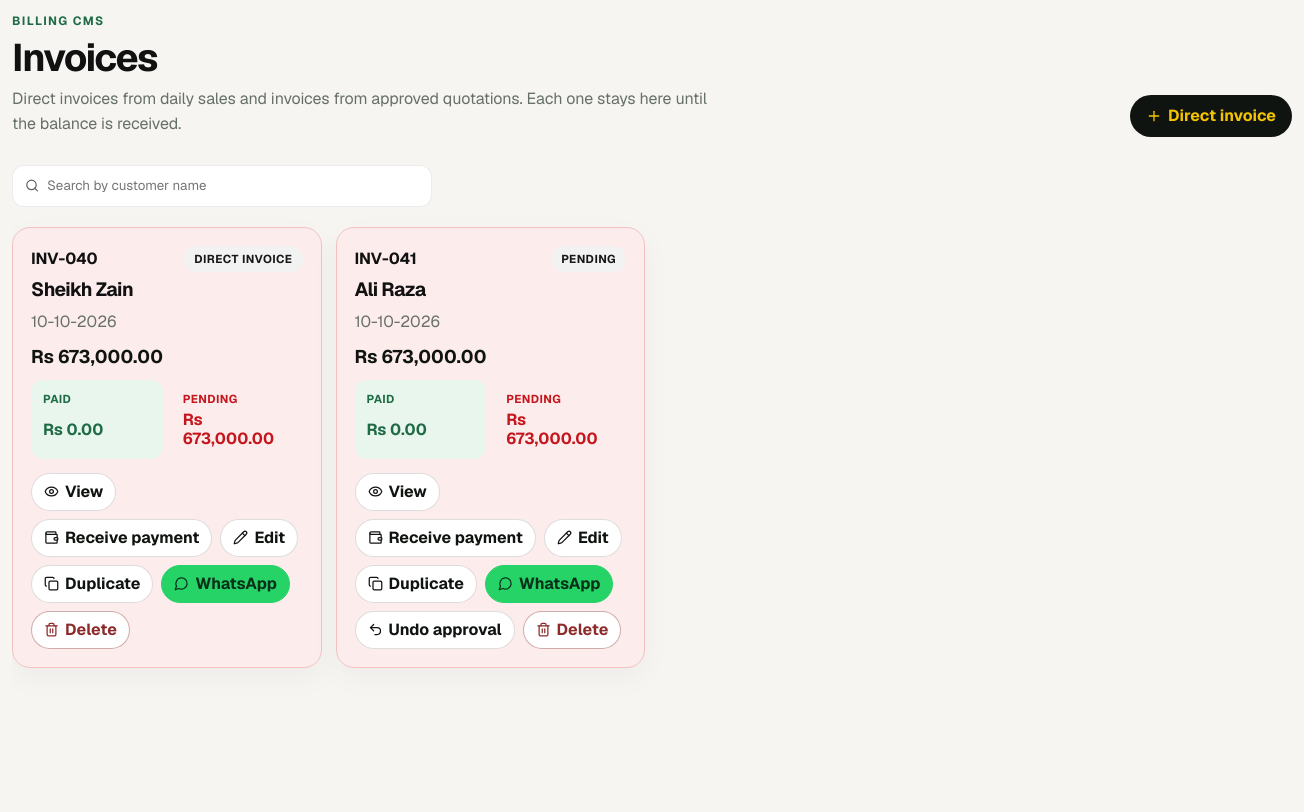
Test case: invoices page searches by customer name
Expected: the text "INV-040" is shown, [31,246,98,272]
Type "ali" into the search field named "Search invoices by customer name" at (233, 186), box [47,166,419,206]
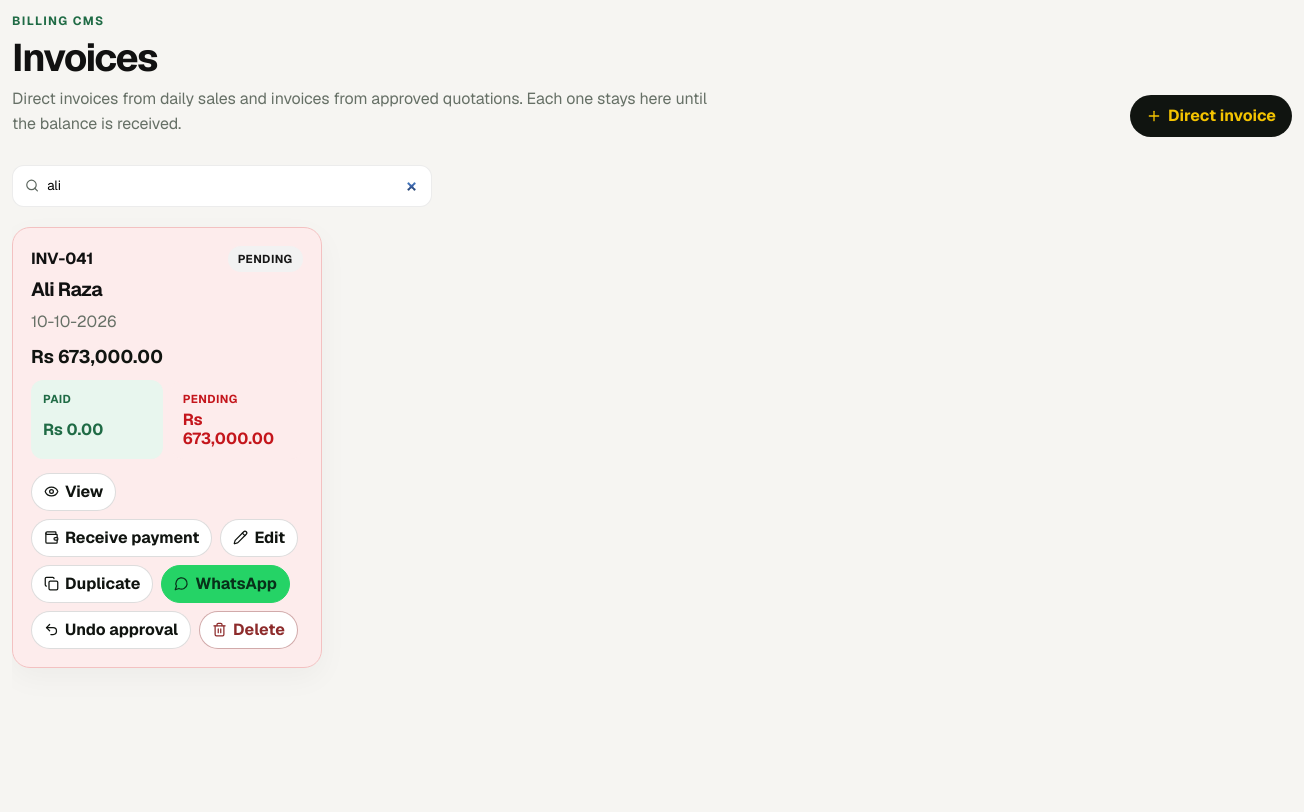
Expected: the text "INV-041" is shown, [31,246,93,272]
Expected: the text "INV-040" is gone
Replace the text in the search field named "Search invoices by customer name" with "nobody" at (233, 186), box [47,166,419,206]
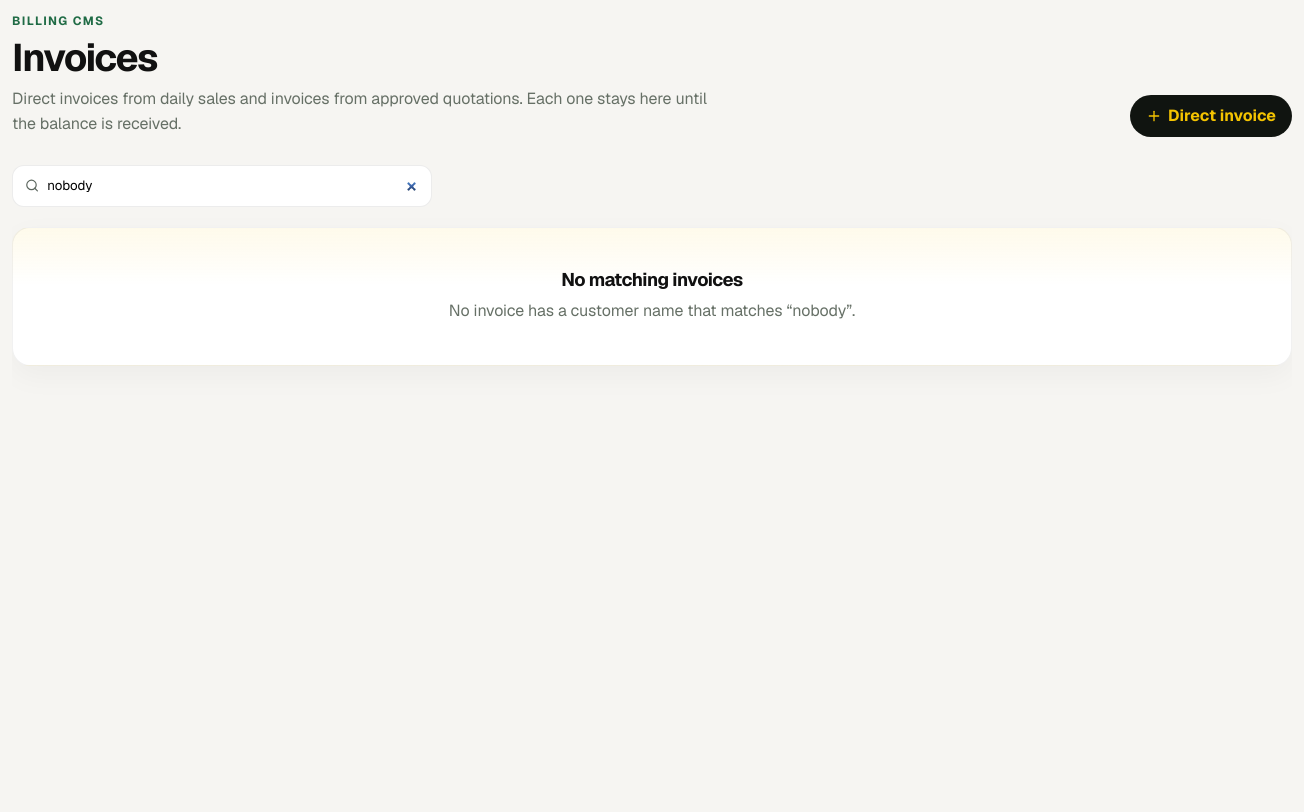
Expected: the heading "No matching invoices" is shown, [561,268,743,291]
